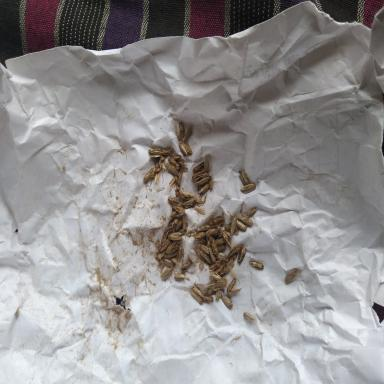pbw: (218, 292, 234, 308), (284, 268, 300, 284), (165, 239, 181, 254), (193, 246, 204, 264), (228, 244, 242, 258), (190, 288, 202, 304), (168, 174, 180, 190), (222, 230, 232, 249), (207, 237, 218, 254), (237, 215, 254, 226), (172, 204, 186, 217), (162, 258, 176, 271), (159, 267, 172, 281), (237, 245, 246, 265), (158, 238, 170, 253), (143, 167, 154, 183), (238, 169, 249, 185), (240, 183, 256, 194), (226, 287, 243, 297), (167, 156, 180, 169), (187, 194, 203, 204), (224, 258, 234, 274), (230, 215, 238, 235), (208, 259, 220, 272), (201, 250, 212, 264), (178, 259, 192, 270), (206, 227, 223, 236), (227, 277, 237, 292), (148, 147, 163, 157), (224, 224, 239, 234), (210, 214, 225, 224), (243, 311, 255, 323), (164, 162, 176, 174), (204, 154, 212, 172), (248, 260, 264, 269), (166, 232, 182, 241), (194, 173, 210, 182), (214, 235, 227, 246), (178, 143, 189, 156), (168, 217, 178, 231), (166, 195, 180, 205), (183, 126, 192, 141), (193, 161, 205, 172), (193, 231, 205, 242), (197, 184, 209, 195), (192, 168, 204, 179), (176, 169, 182, 191), (196, 223, 212, 231), (159, 155, 167, 171), (173, 122, 181, 138), (150, 162, 158, 178), (161, 229, 169, 245), (154, 166, 161, 184), (194, 206, 206, 216), (215, 262, 225, 274), (245, 207, 257, 217), (179, 122, 185, 142), (205, 287, 218, 296), (182, 198, 196, 206), (209, 272, 223, 280), (177, 160, 188, 170), (156, 250, 166, 261), (208, 172, 214, 190), (198, 244, 210, 253), (179, 190, 194, 197), (200, 294, 213, 302), (220, 263, 228, 276), (236, 220, 246, 230), (204, 283, 216, 291), (174, 272, 186, 280), (166, 250, 178, 258), (184, 142, 192, 154), (182, 213, 187, 232), (215, 288, 222, 301), (171, 256, 180, 266), (177, 245, 183, 260), (209, 246, 215, 261), (193, 282, 202, 292), (170, 208, 179, 218), (175, 219, 183, 230), (162, 147, 174, 154), (188, 253, 195, 265), (177, 228, 187, 236), (217, 244, 225, 253), (214, 253, 225, 259), (149, 154, 161, 159), (205, 232, 209, 245), (173, 154, 181, 160)
